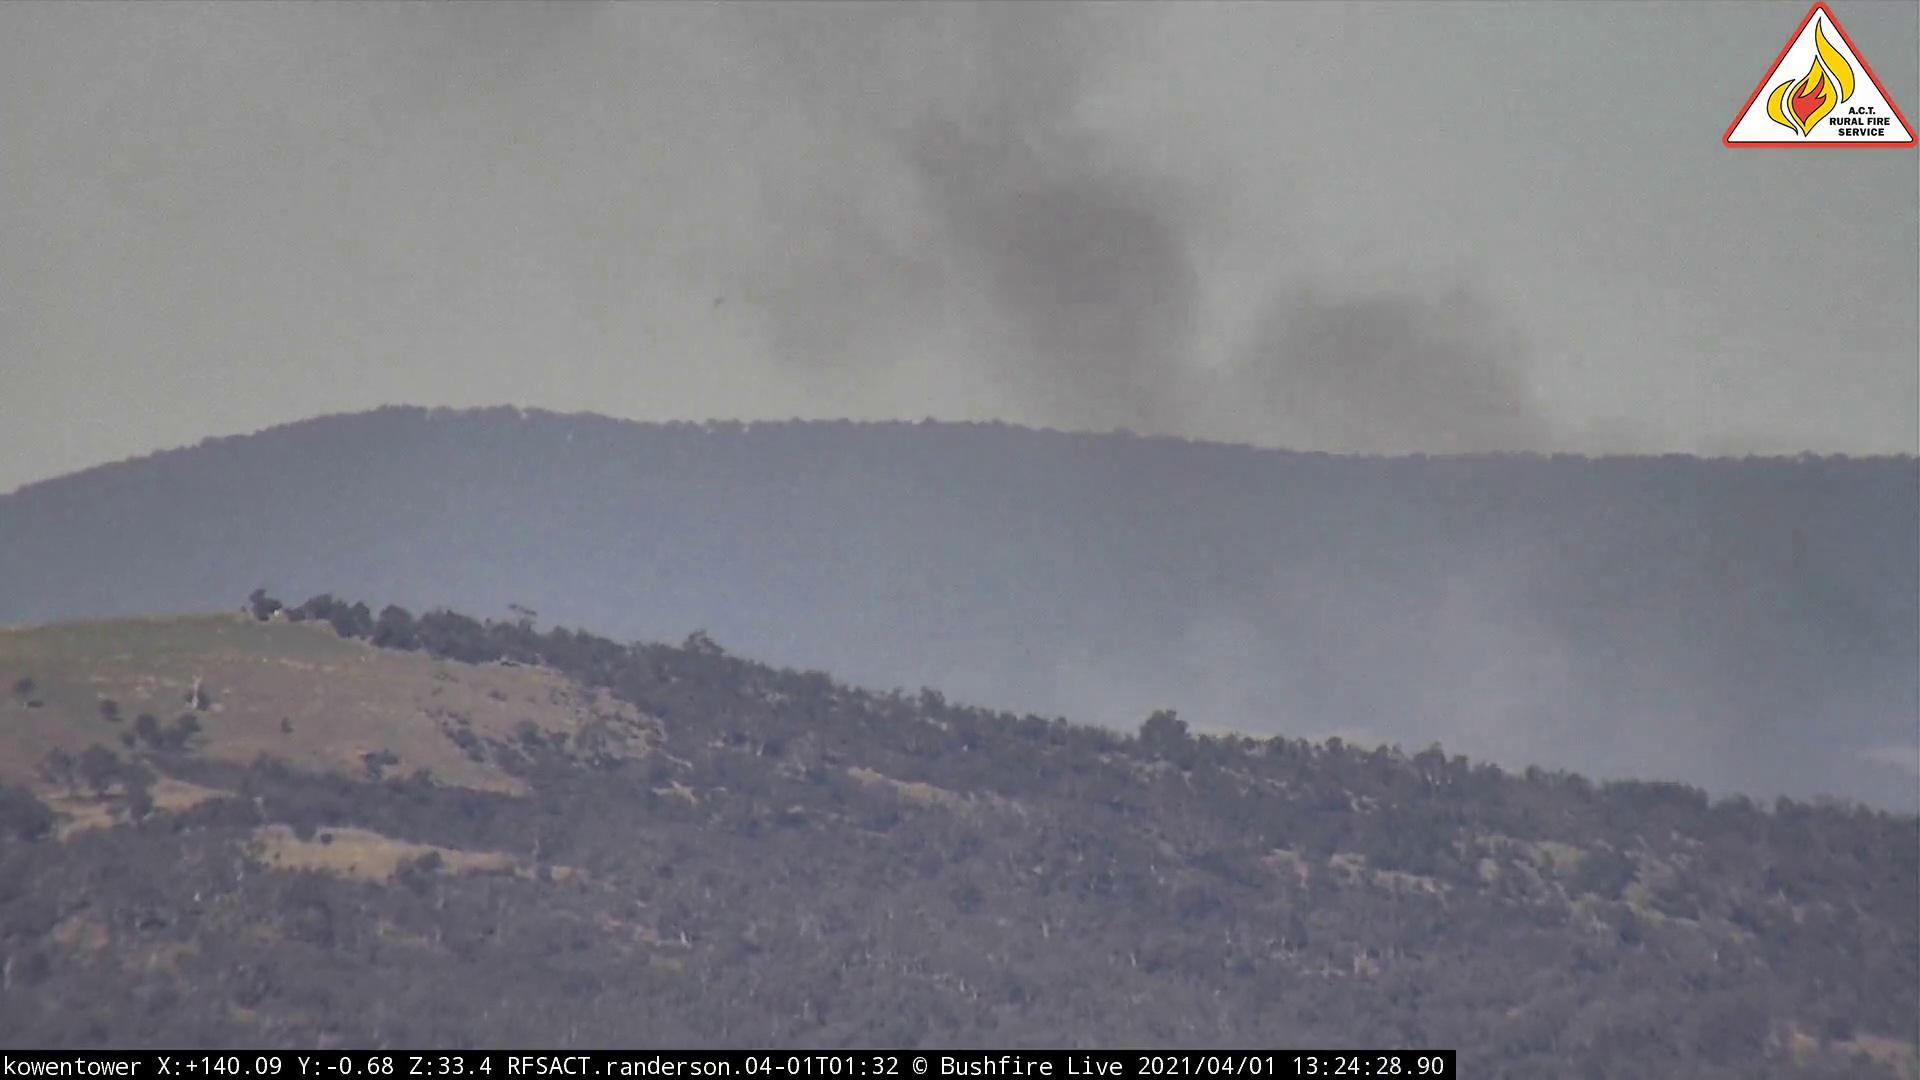instance_salient_object: (539, 3, 1920, 851)
